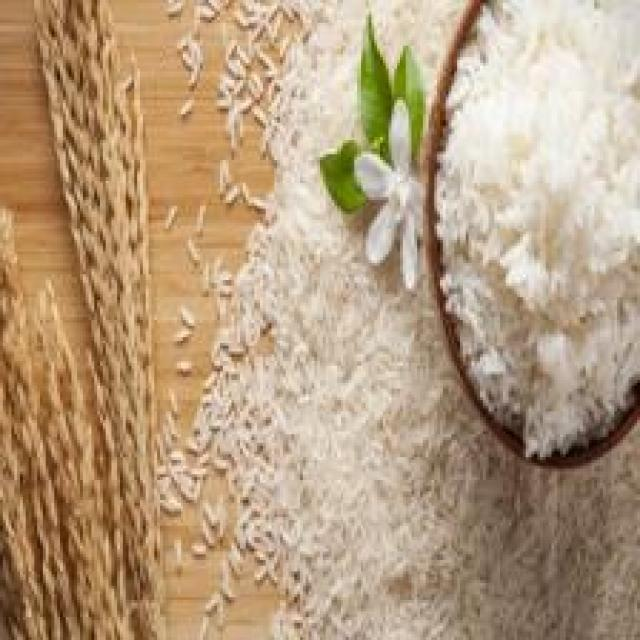Wet Waste: (441, 0, 640, 453)
